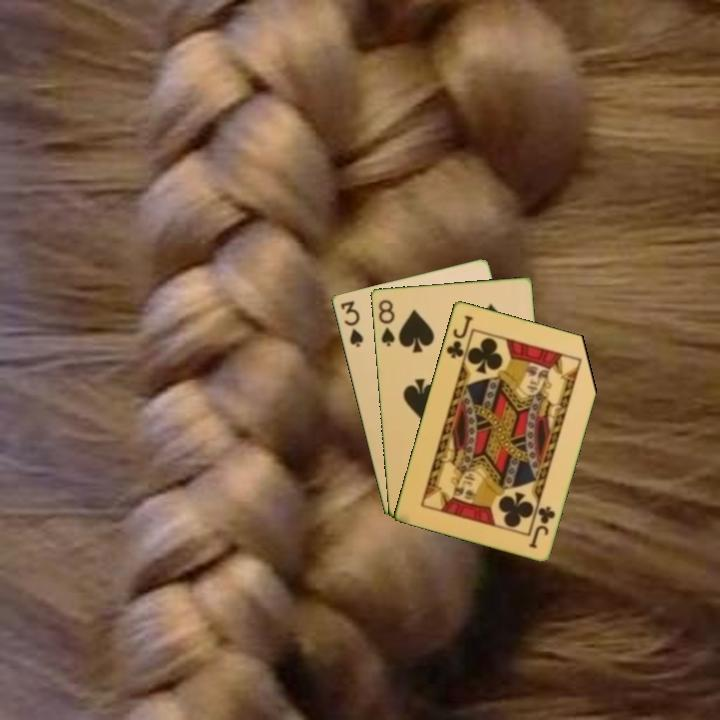3s: (337, 297, 366, 350)
8s: (375, 296, 397, 349)
Jc: (442, 311, 475, 361), (525, 502, 558, 551)
